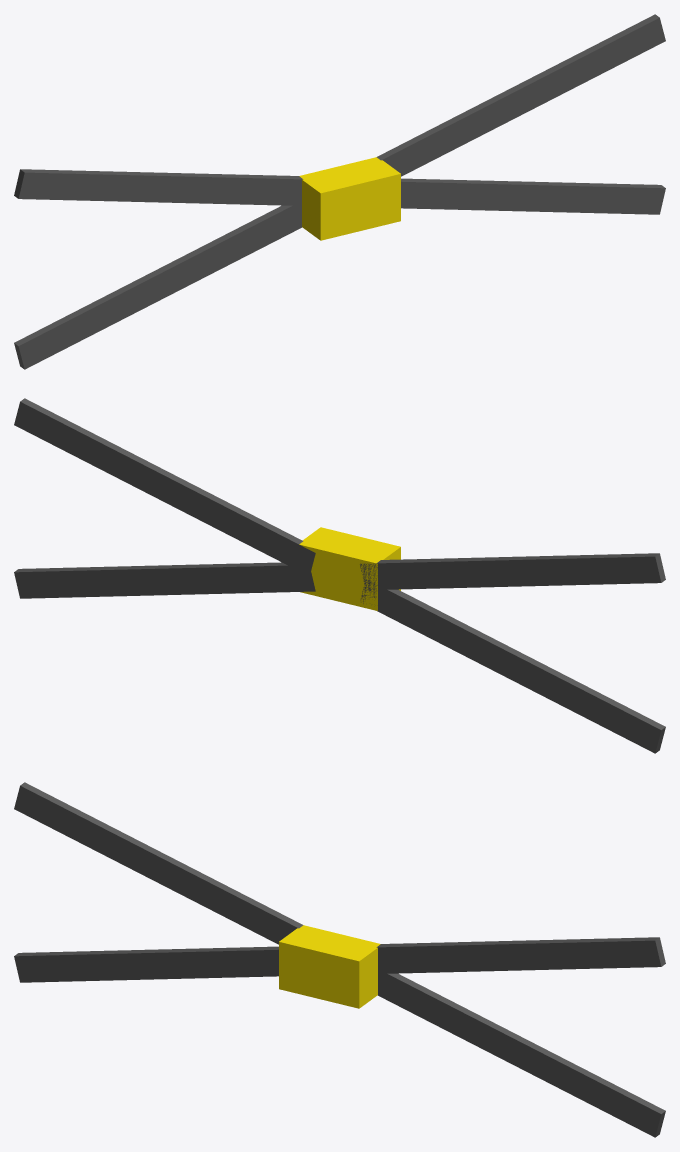
Rendered from ace.glb.
3 views of the same model, one above another, from view 1: azimuth 30°, elevation 25°; view 2: azimuth 150°, elevation 25°; view 3: azimuth 330°, elevation 25° (orthographic).
Visible parts, largest first — view 1: ace; view 2: ace; view 3: ace.
Part boxes in pixels (x1,y1,x2,y2): ace: [14, 14, 665, 369]; ace: [14, 398, 665, 753]; ace: [14, 782, 665, 1137].
Size of the model in its own units: 3.26 by 0.9492 by 0.2024.
